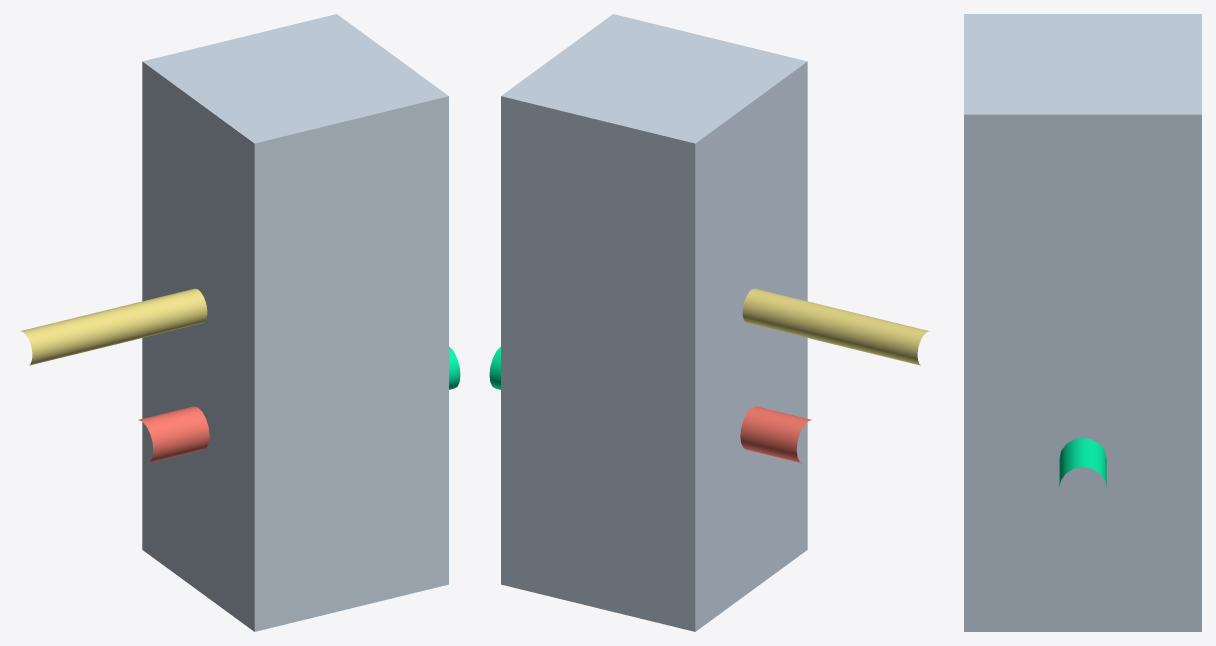
Rendered from rebound_hammer_upv_ndt_testing.glb.
3 renders of one model, left to right at view 1: azimuth 30°, elevation 25°; view 2: azimuth 150°, elevation 25°; view 3: azimuth 270°, elevation 25°, orthographic. The views are drawn at different scales.
Parts seen in each view (by area): view 1: ConcreteStructuralTestColumn, SchmidtReboundHammerSpringPlunger, UPVPiezoelectricTransmitterProbe; view 2: ConcreteStructuralTestColumn, SchmidtReboundHammerSpringPlunger, UPVPiezoelectricTransmitterProbe; view 3: ConcreteStructuralTestColumn, UPVPiezoelectricReceiverProbe.
Part boxes in pixels (bbox=[...]): ConcreteStructuralTestColumn: bbox=[142, 14, 448, 631]; SchmidtReboundHammerSpringPlunger: bbox=[20, 288, 207, 365]; UPVPiezoelectricTransmitterProbe: bbox=[138, 406, 209, 463]; ConcreteStructuralTestColumn: bbox=[501, 14, 807, 631]; SchmidtReboundHammerSpringPlunger: bbox=[742, 288, 929, 365]; UPVPiezoelectricTransmitterProbe: bbox=[740, 406, 811, 463]; ConcreteStructuralTestColumn: bbox=[964, 14, 1201, 631]; UPVPiezoelectricReceiverProbe: bbox=[1059, 438, 1106, 486].
Size of the model in its own units: 1.1 by 1.2 by 0.5.
